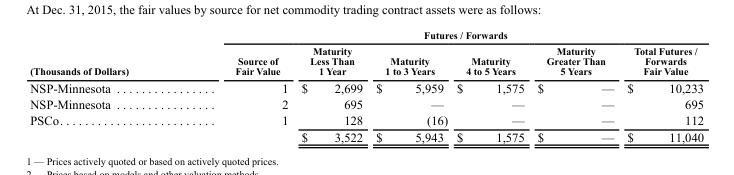table: (29, 28, 703, 143)
table column: (29, 28, 181, 143), (181, 28, 294, 143), (530, 28, 619, 143), (619, 28, 703, 143), (368, 28, 451, 143), (451, 28, 530, 143), (294, 28, 368, 143)
table column header: (29, 28, 703, 78)
table row: (29, 42, 703, 78), (29, 78, 703, 95), (29, 111, 703, 128), (29, 95, 703, 111), (29, 128, 703, 143), (29, 28, 703, 42)
table spanning cell: (29, 28, 181, 78), (181, 28, 703, 42)
